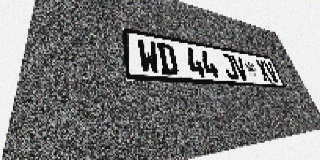4: (185, 47, 207, 77), (199, 49, 220, 78)
D: (156, 42, 179, 76)
J: (219, 53, 240, 80)
V: (230, 55, 250, 80), (263, 60, 280, 83)
W: (137, 39, 161, 74)
X: (254, 59, 272, 82)
